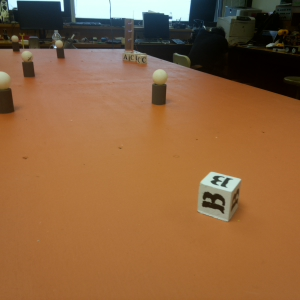blockA: (122, 53, 130, 61)
blockB: (196, 171, 243, 221)
blockC: (138, 54, 147, 65)
corner: (124, 18, 135, 51)
obstacle: (1, 70, 15, 114), (152, 69, 168, 106), (21, 50, 35, 77), (57, 41, 65, 59), (11, 35, 20, 51)
